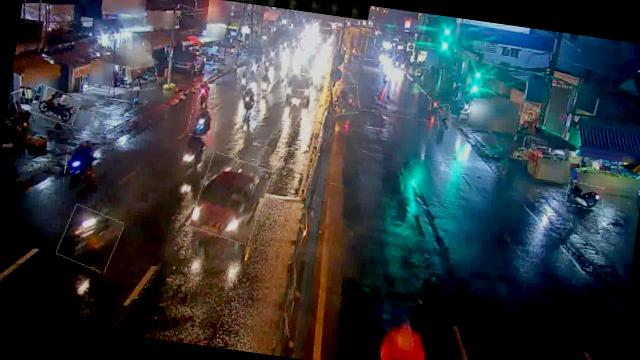Bike: (56, 206, 122, 272), (63, 134, 108, 188), (30, 85, 80, 124), (564, 180, 605, 210), (328, 83, 362, 116), (188, 107, 218, 139), (125, 64, 158, 93), (196, 83, 216, 111), (238, 86, 256, 116), (436, 103, 452, 132), (258, 72, 272, 99), (248, 54, 262, 77), (236, 70, 248, 90), (430, 92, 440, 114)
Car: (190, 152, 270, 244), (283, 72, 314, 104)
